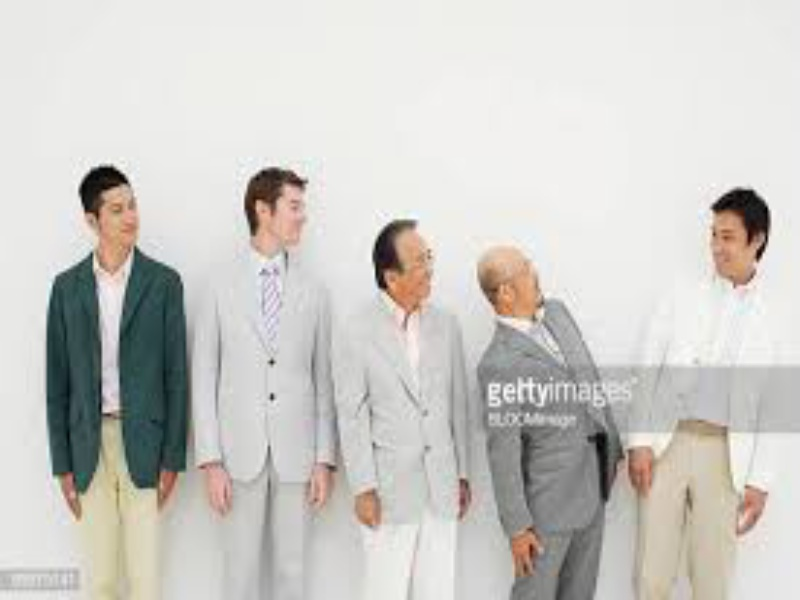TsisyArotava: (362, 208, 450, 320), (700, 182, 775, 287), (66, 166, 149, 251)
